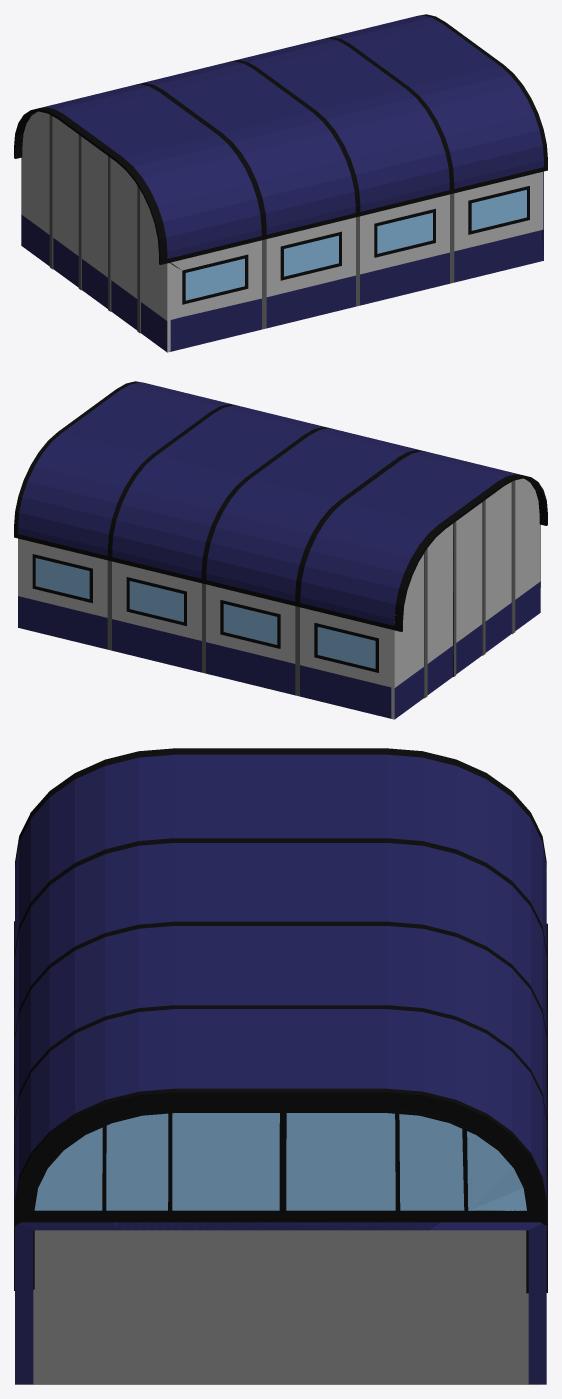
Rendered from Building_Hangar.fbx.
The picture shows the model from 3 angles, top to bottom: view 1: azimuth 30°, elevation 25°; view 2: azimuth 150°, elevation 25°; view 3: azimuth 270°, elevation 25°; orthographic projection. The views are drawn at different scales.
Visible parts, largest first — view 1: Cube; view 2: Cube; view 3: Cube.
Part boxes in pixels (left/top/right/bottom): Cube: left=14, top=14, right=547, bottom=352; Cube: left=14, top=381, right=547, bottom=719; Cube: left=14, top=748, right=547, bottom=1384.
Bounding box in the file's own units: 5695 × 2284 × 3737.
